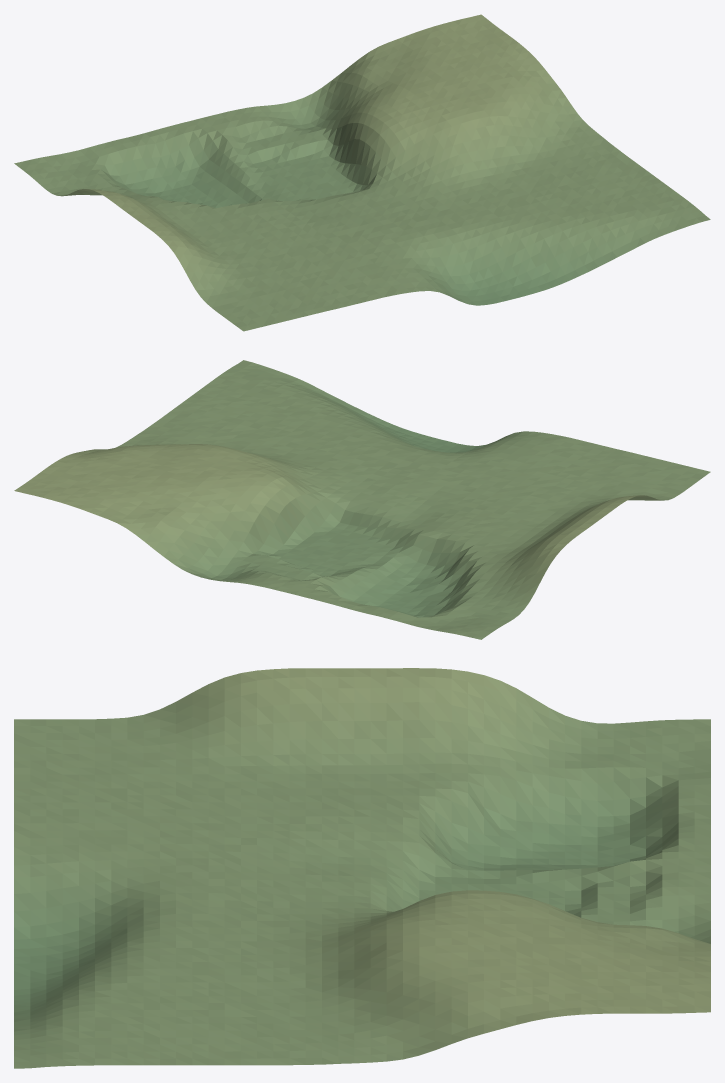
Rendered from Terrain_1_1.glb.
The picture shows the model from 3 angles, top to bottom: view 1: azimuth 30°, elevation 25°; view 2: azimuth 150°, elevation 25°; view 3: azimuth 270°, elevation 25°; orthographic projection. The views are drawn at different scales.
Visible parts, largest first — view 1: Terrain_1_1; view 2: Terrain_1_1; view 3: Terrain_1_1.
Part boxes in pixels (x1,y1,x2,y2): Terrain_1_1: (14,14,710,331); Terrain_1_1: (14,360,710,639); Terrain_1_1: (14,668,710,1068).
Bounding box in the file's own units: 288 × 40.4 × 245.
